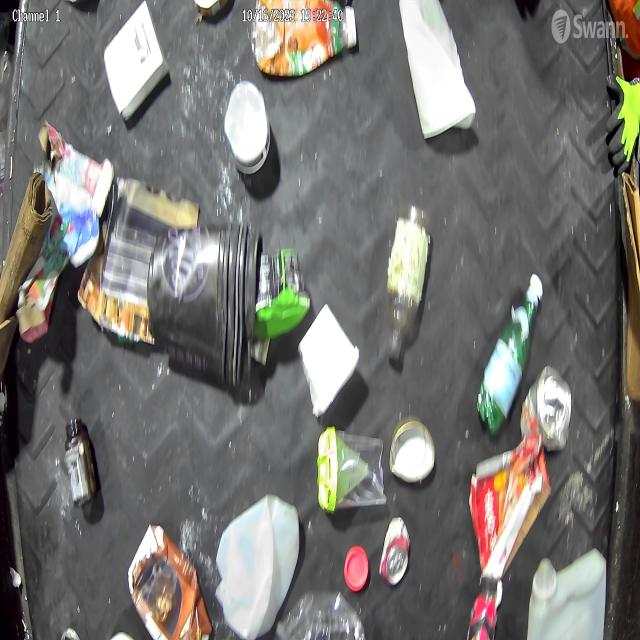can: (519, 363, 573, 457), (388, 414, 437, 485), (378, 513, 411, 588)
milk_jug: (214, 492, 301, 640), (525, 544, 607, 640)
